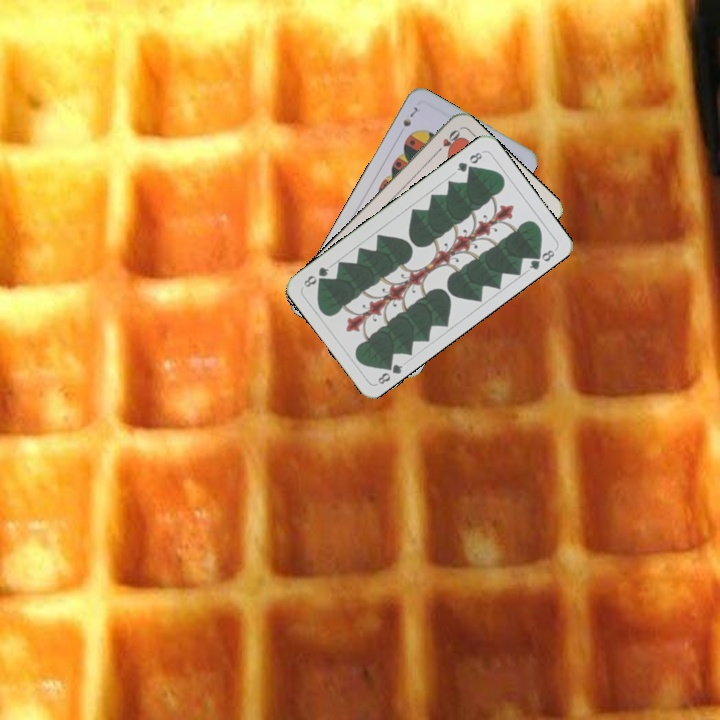G8: (373, 357, 405, 387), (452, 148, 485, 175)
HO: (431, 125, 463, 158)
S7: (399, 102, 421, 129)
